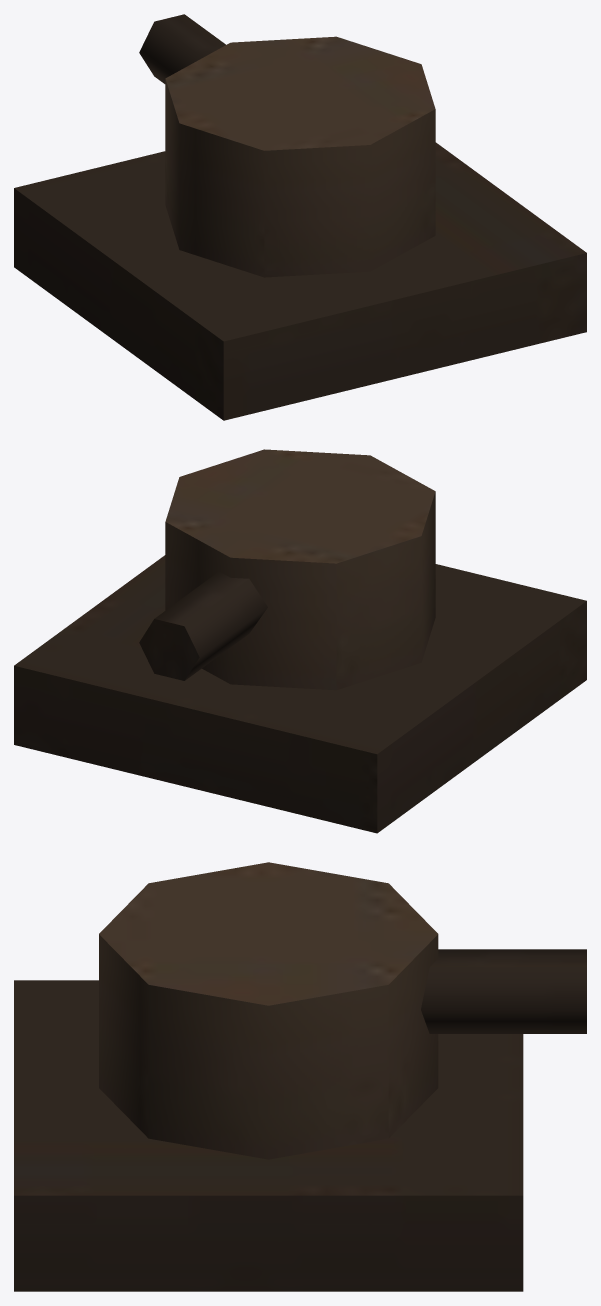
Rendered from flamethrower-turret.glb.
3 views of the same model, one above another, from view 1: azimuth 30°, elevation 25°; view 2: azimuth 150°, elevation 25°; view 3: azimuth 270°, elevation 25° (orthographic). The views are drawn at different scales.
Parts seen in each view (by area): view 1: flamethrower-turret; view 2: flamethrower-turret; view 3: flamethrower-turret.
Boxes of the visible parts, <box> form: flamethrower-turret: <box>14,14,586,420</box>; flamethrower-turret: <box>14,449,586,833</box>; flamethrower-turret: <box>14,862,586,1291</box>.
Size of the model in its own units: 0.24 by 0.13 by 0.27.
1 material, 1 textured.
